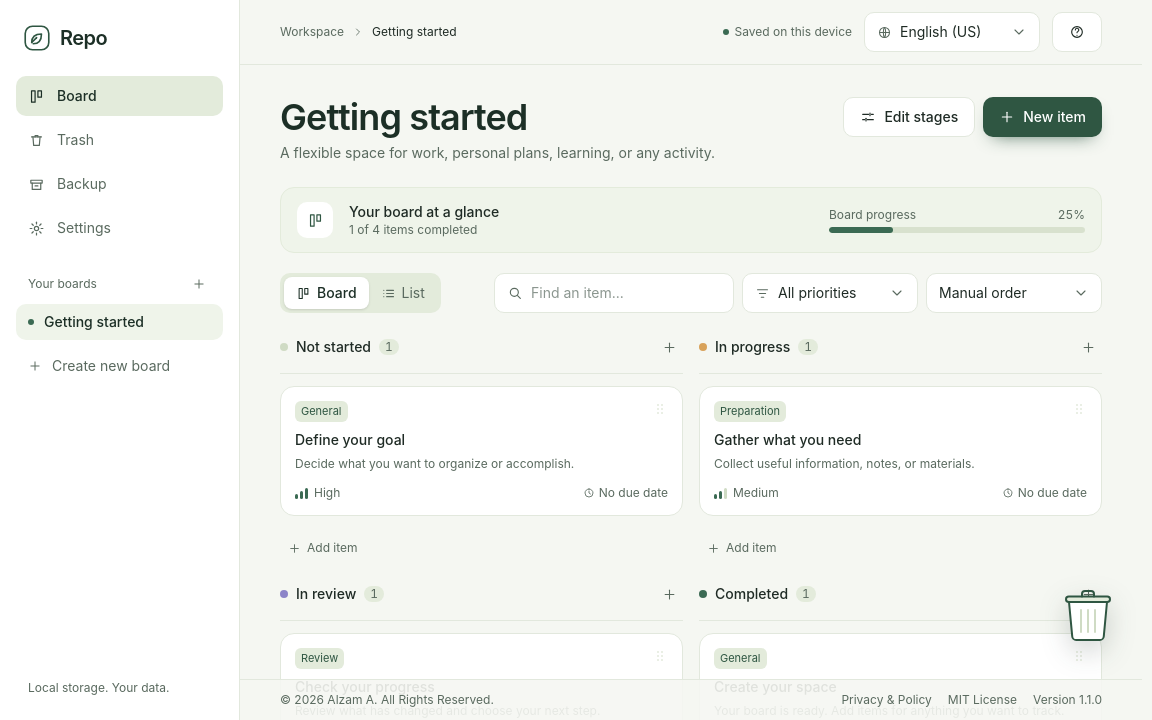
it: field tooltips › opens the title hint on click and closes it with Escape
This screenshot has width=1152, height=720.
Expected: the heading "Getting started" is shown, [280,95,527,139]
Click the button "New item" at (1043, 117), box [983,97,1102,137]
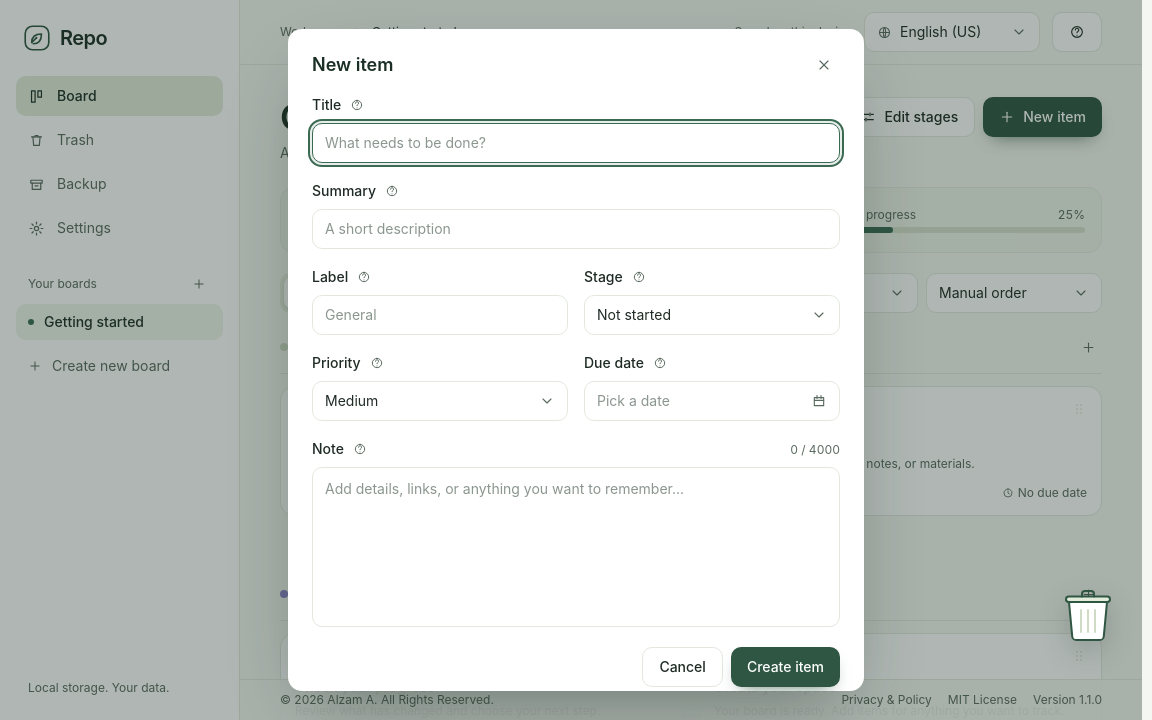
Expected: the field labelled "Title" is shown, [312,123,840,163]
Click the button named "More about Title" at (357, 105), box [345,93,369,117]
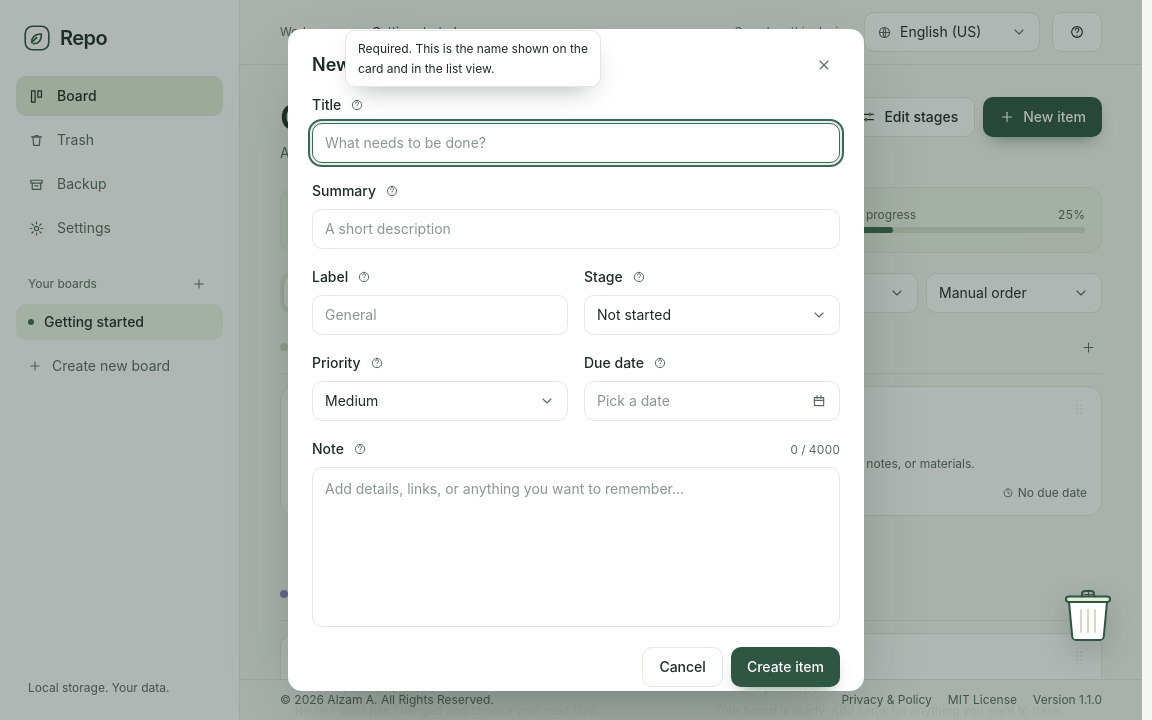
Expected: the tooltip reads "Required. This is the name shown on the card and in the list view.", [358,41,588,76]
Press Escape in the tooltip, box [345,30,601,87]
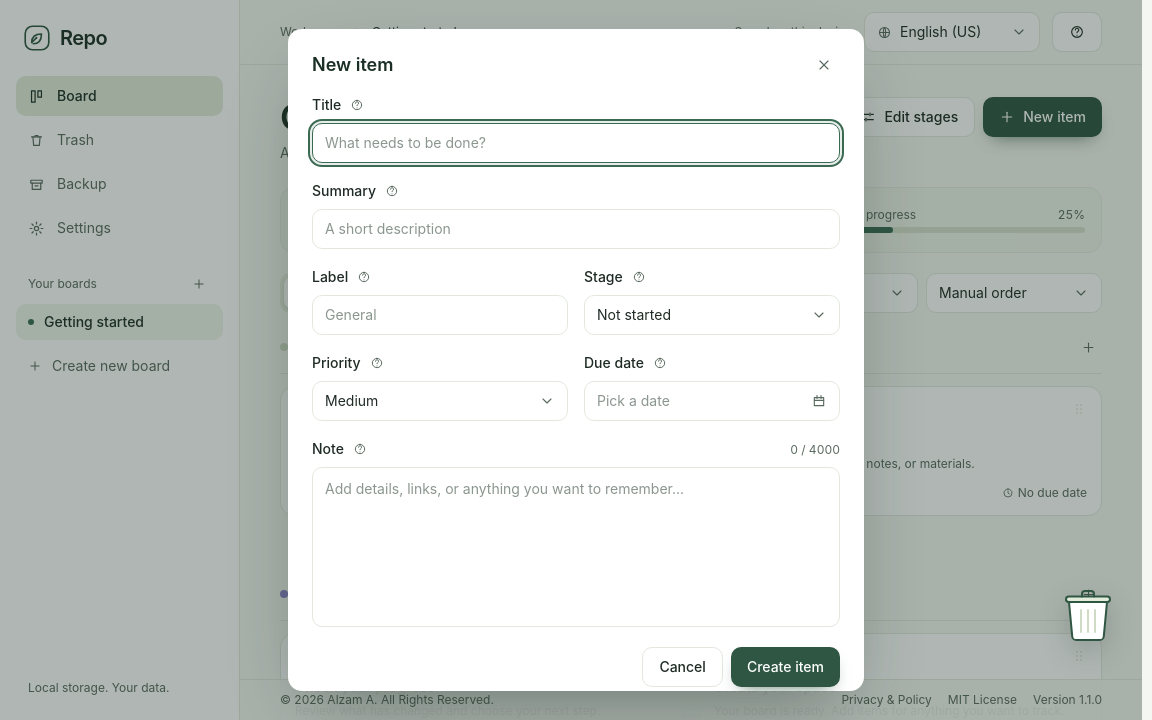
Expected: the tooltip "Required. This is the name shown on the card and in the list view." is gone
